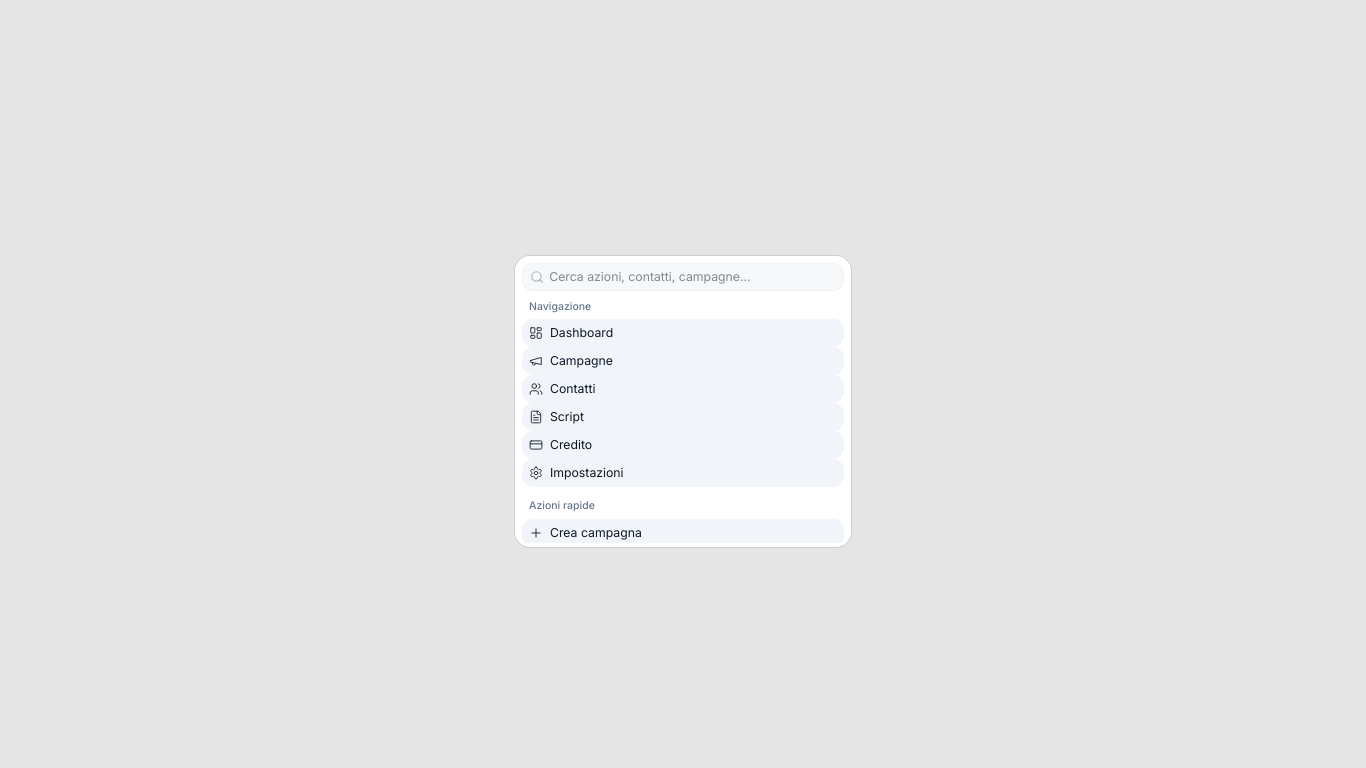
CommandPalette › empty state › shows empty state message when no results match
The image size is (1366, 768).
Type "zzznomatch999" into the dropdown with placeholder "Cerca azioni, contatti, campagne…" at [694, 277], box left=544, top=268, right=843, bottom=286
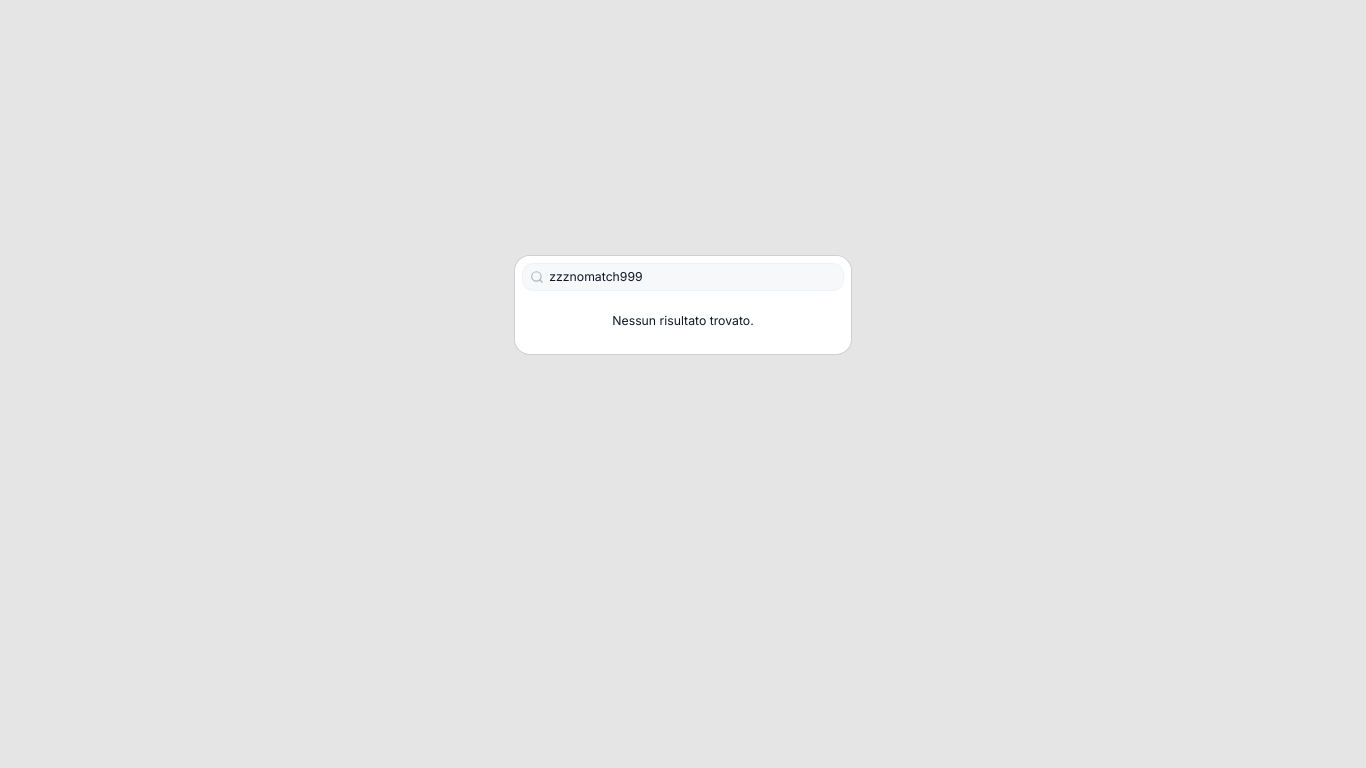
Expected: the text "Nessun risultato trovato." is shown, left=612, top=313, right=754, bottom=328
